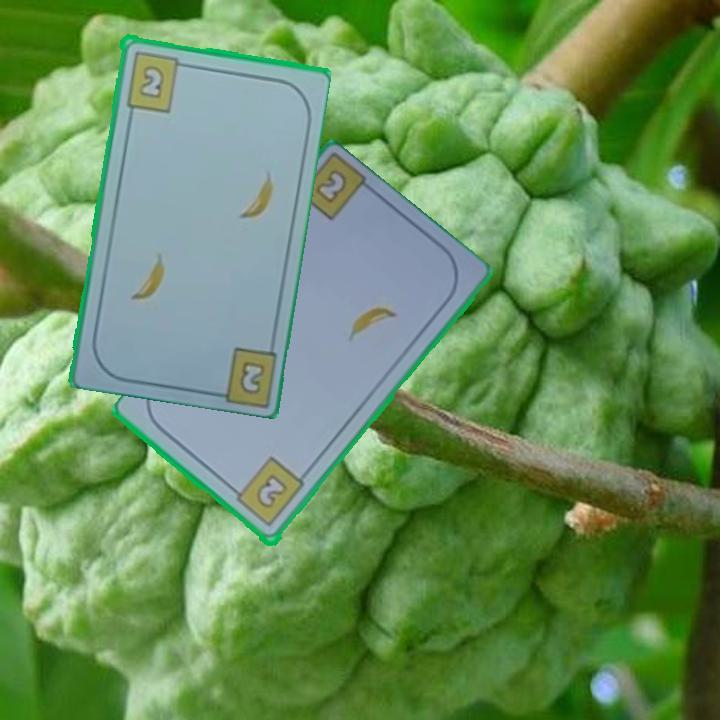2b: (227, 454, 307, 531), (122, 47, 191, 115), (236, 356, 268, 397), (315, 169, 347, 204)
